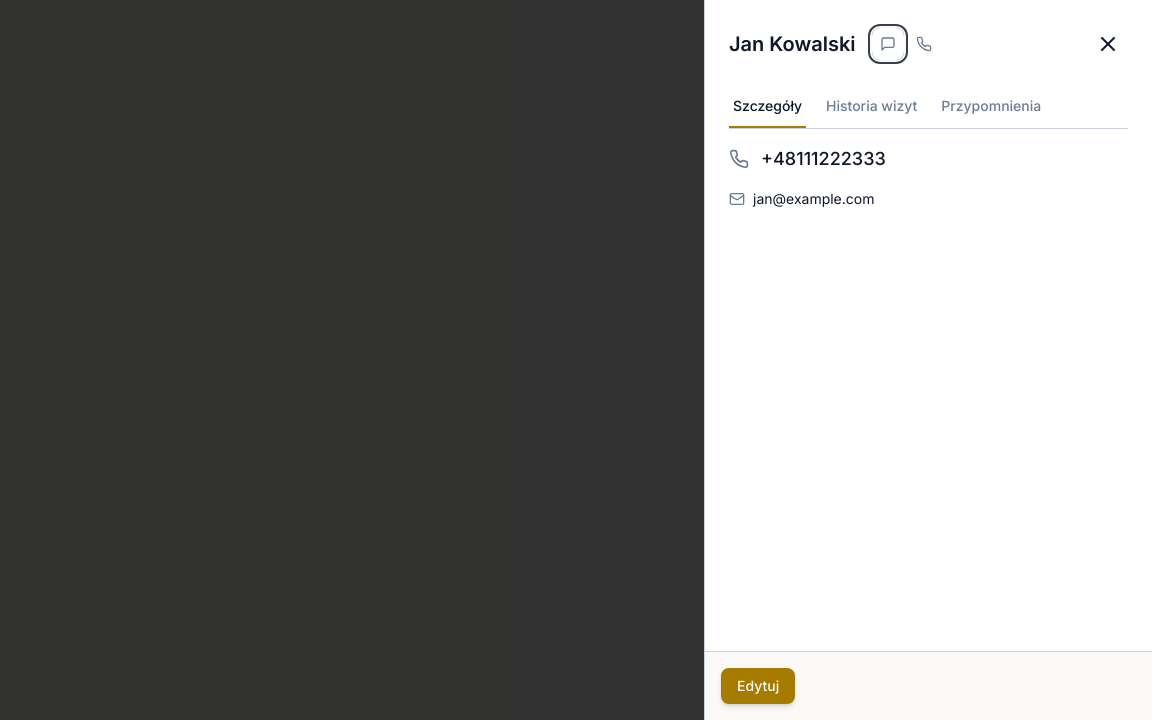
it: CustomerEditDrawer › visit card click › calls onClose and onOpenReservation(visitId) when a visit card is clicked
Later steps or results of the test are not shown.
Click the tab "Historia wizyt": (872, 108) [822,88,921,128]
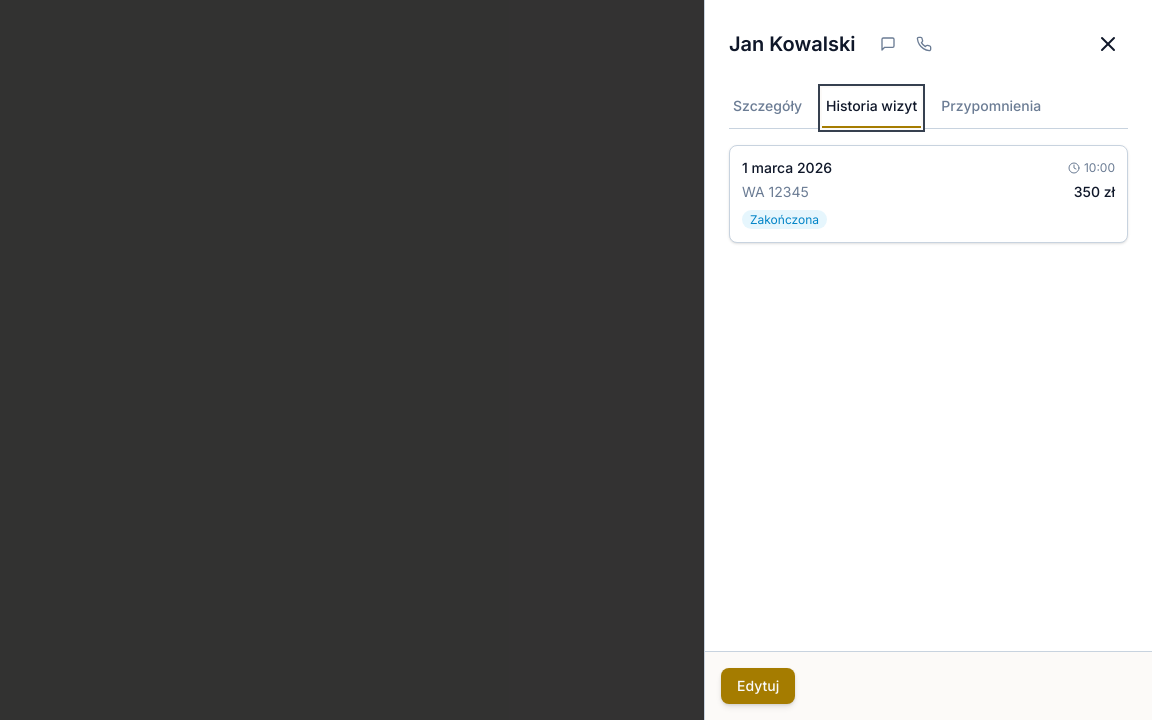
Check: the text "WA 12345" is shown, box [742,182,809,202]
Check: the button "WA 12345" is shown, box [729,145,1128,243]
